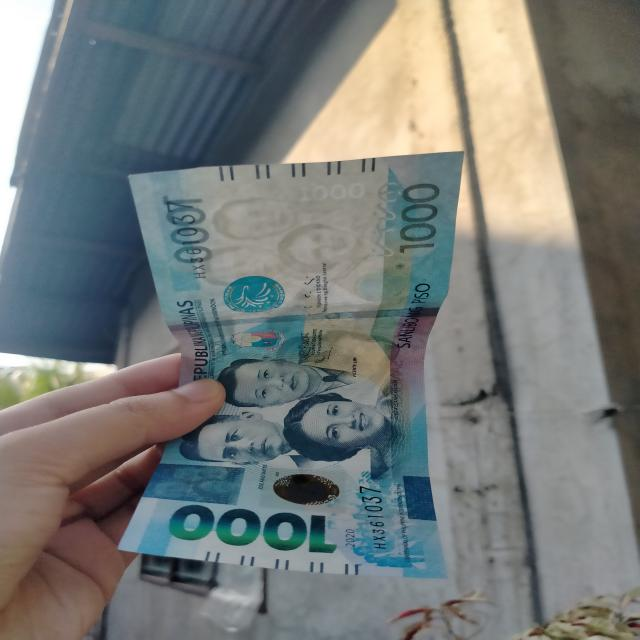concealed_value: (141, 464, 245, 506)
optically_variable_device: (257, 465, 348, 509)
security_thread: (172, 305, 437, 331)
see_through_mark: (362, 176, 408, 272)
serial_number: (356, 480, 394, 552)
value_watermark: (296, 182, 366, 205)
watermark: (193, 195, 373, 293)
